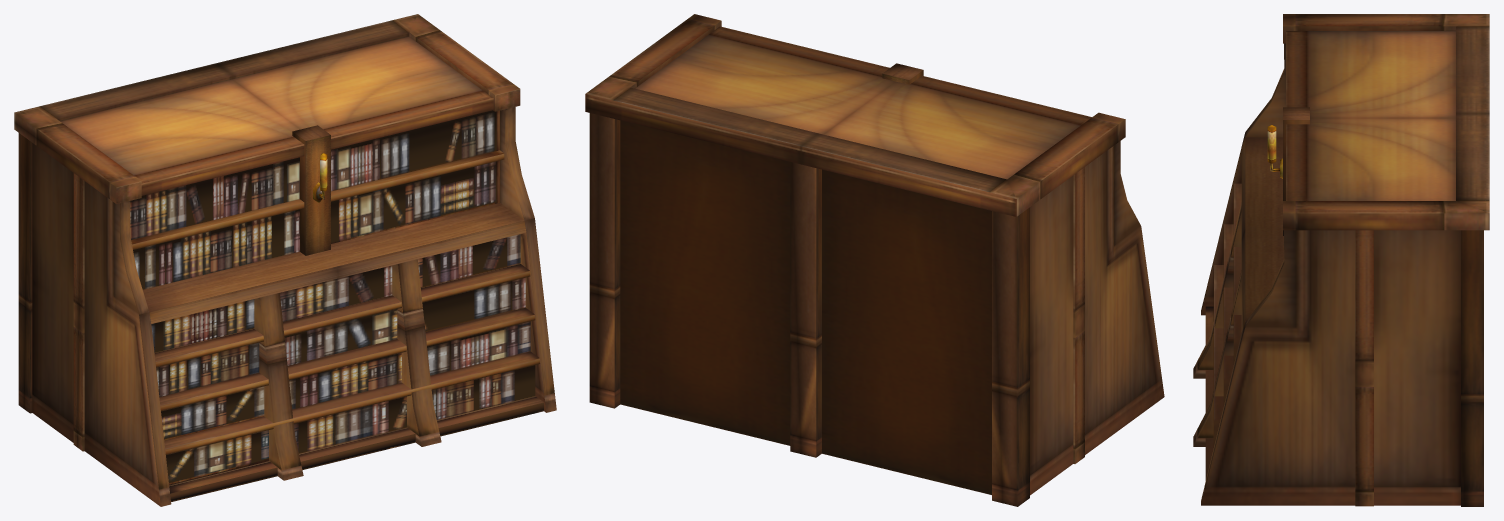
The model's file is a_bookcase10.glb.
3 views of the same model, side by side, from view 1: azimuth 30°, elevation 25°; view 2: azimuth 150°, elevation 25°; view 3: azimuth 270°, elevation 25° (orthographic). The views are drawn at different scales.
Visible parts, largest first — view 1: a_bookcase10; view 2: a_bookcase10; view 3: a_bookcase10.
Boxes of the visible parts, <box> form: a_bookcase10: <box>14,14,556,506</box>; a_bookcase10: <box>585,14,1164,506</box>; a_bookcase10: <box>1193,14,1489,506</box>.
Bounding box in the file's own units: 3.99 × 2.74 × 2.51.
3 materials, 3 textured.
